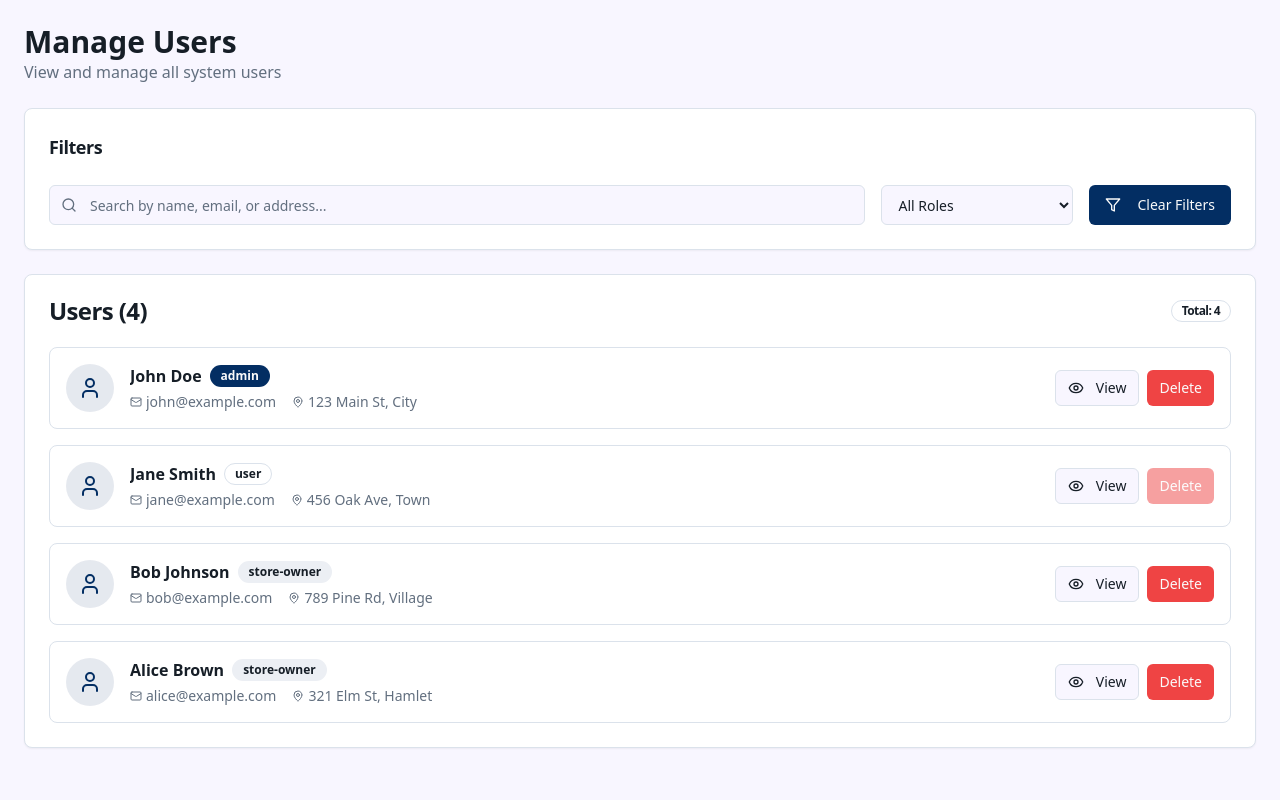
Test case: AdminUsers › should filter users by role
The width and height of the screenshot is (1280, 800).
# Filter by admin role
Select "Admin" in the dropdown showing "All Roles" at (977, 205), box [881,185,1073,225]
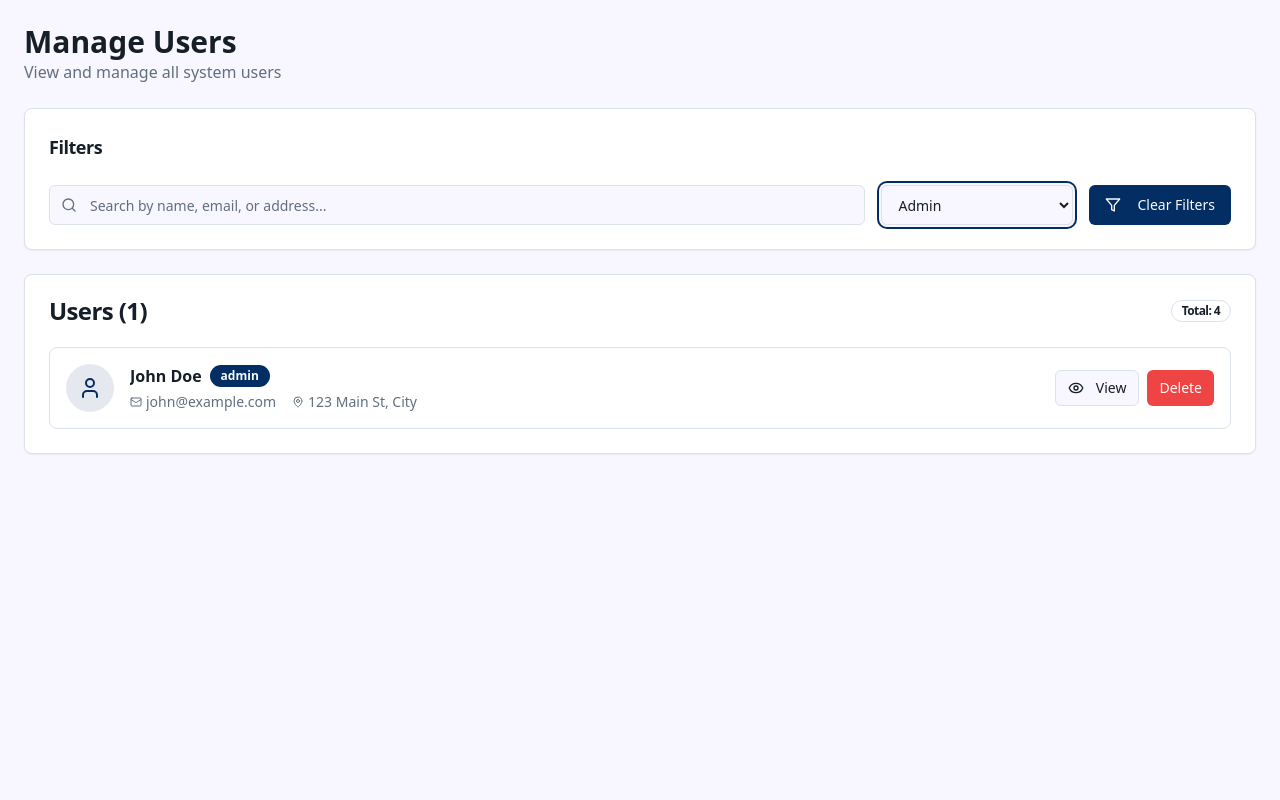
Expected: the heading "John Doe" is shown, [130,364,202,388]
Result: the text "Users (1)" is shown at [49,299,147,323]
Result: the heading "Jane Smith" is gone
